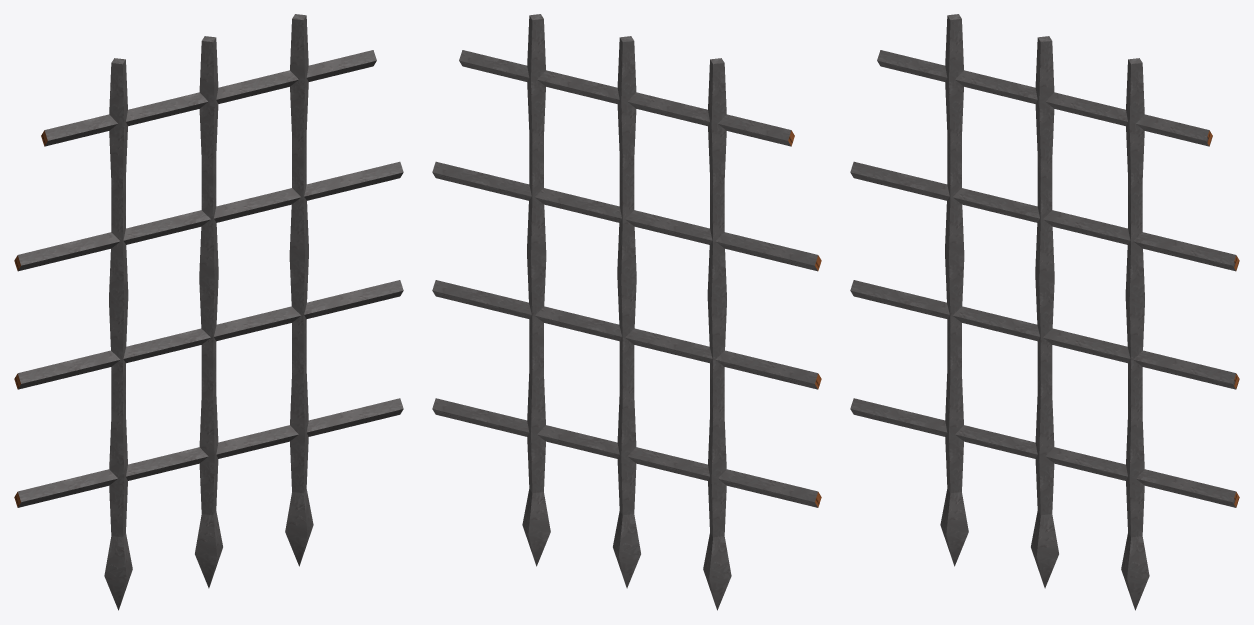
File: Arch_Door_Var1.fbx
The picture shows the model from 3 angles, left to right: view 1: azimuth 30°, elevation 25°; view 2: azimuth 150°, elevation 25°; view 3: azimuth 330°, elevation 25°; orthographic projection.
Visible parts, largest first — view 1: pCube24893; view 2: pCube24893; view 3: pCube24893.
Boxes of the visible parts, x1,y1,x2,y2 form: pCube24893: (14,14,403,610); pCube24893: (432,14,821,610); pCube24893: (850,14,1239,610).
Size of the model in its own units: 2.12 by 2.91 by 0.1577.
